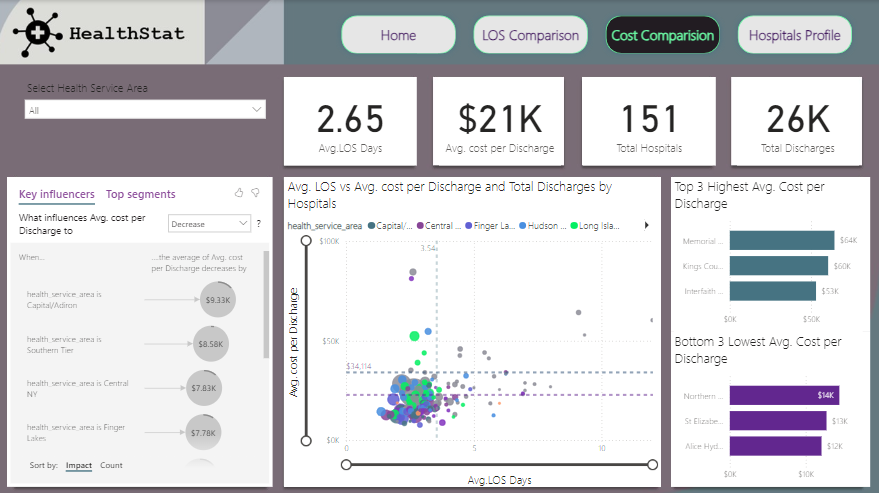

This screenshot's page, from the dashboard's own definition file:
{"tool":"powerbi","page":{"name":"Cost Comparision","canvas":[1280,720],"ordinal":2},"visuals":[{"type":"scatterChart","title":"Avg. LOS vs Avg. cost per Discharge and Total Discharges by Hospitals","fields":{"Category":["hospital_discharges.facility_name"],"X":["__ Measures.Avg.LOS Days"],"Y":["__ Measures.Avg. cost per Discharge"],"Size":["__ Measures.Total Discharges"],"Series":["hospital_discharges.health_service_area"]},"box":[416,256,544,448],"z":0},{"type":"slicer","fields":{"Values":["hospital_discharges.health_service_area"]},"box":[32,112,368,128],"z":1000},{"type":"keyDriversVisual","fields":{"ExplainBy":["hospital_discharges.apr_risk_of_mortality","hospital_discharges.apr_severity_of_illness_description","hospital_discharges.ccs_diagnosis_description","hospital_discharges.patient_disposition","hospital_discharges.gender","hospital_discharges.Age Bins","Surgical_Program_Size_Sammary.Surgical Program Size","hospital_discharges.health_service_area"],"Target":["__ Measures.Avg. cost per Discharge"]},"box":[16,256,384,448],"z":2000},{"type":"card","fields":{"Values":["__ Measures.Avg.LOS Days"]},"box":[416,112,192,128],"z":3000},{"type":"card","fields":{"Values":["__ Measures.Avg. cost per Discharge"]},"box":[640,112,176,128],"z":4000},{"type":"card","fields":{"Values":["__ Measures.Total Hospitals"]},"box":[848,112,192,128],"z":5000},{"type":"card","fields":{"Values":["__ Measures.Total Discharges"]},"box":[1072,112,176,128],"z":6000},{"type":"clusteredBarChart","title":"Top 3  Highest   Avg. Cost per Discharge","fields":{"Category":["hospital_discharges.facility_name"],"Y":["__ Measures.Avg. cost per Discharge"]},"box":[976,256,288,224],"z":6001},{"type":"clusteredBarChart","title":"Bottom 3  Lowest   Avg. Cost per Discharge","fields":{"Category":["hospital_discharges.facility_name"],"Y":["__ Measures.Avg. cost per Discharge"]},"box":[976,480,288,224],"z":6002},{"type":"pageNavigator","box":[491.7,15,756.7,71.7],"z":6003}]}

Visuals, with their boxes in screenshot pixels (x1, y1, x2, y2), scaled from the page's 1280x720 canvas onto the 879x493 screenshot:
"Avg. LOS vs Avg. cost per Discharge and Total Discharges by Hospitals" scatterChart: detection(286, 175, 659, 482)
slicer - hospital_discharges.health_service_area: detection(22, 77, 275, 164)
keyDriversVisual - hospital_discharges.apr_risk_of_mortality x hospital_discharges.apr_severity_of_illness_description: detection(11, 175, 275, 482)
card - __ Measures.Avg.LOS Days: detection(286, 77, 418, 164)
card - __ Measures.Avg. cost per Discharge: detection(440, 77, 560, 164)
card - __ Measures.Total Hospitals: detection(582, 77, 714, 164)
card - __ Measures.Total Discharges: detection(736, 77, 857, 164)
"Top 3  Highest   Avg. Cost per Discharge" clusteredBarChart: detection(670, 175, 868, 329)
"Bottom 3  Lowest   Avg. Cost per Discharge" clusteredBarChart: detection(670, 329, 868, 482)
pageNavigator: detection(338, 10, 857, 59)
